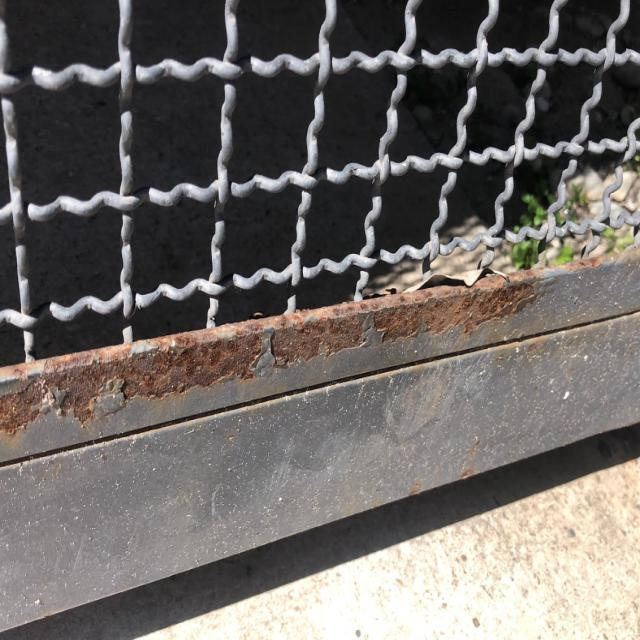Uniform Corrosion: (0, 277, 528, 432)
